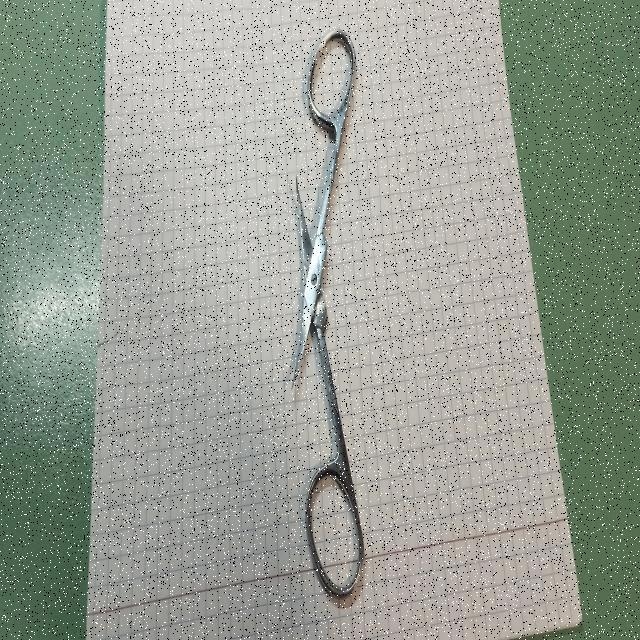scissors: (286, 18, 368, 602)
